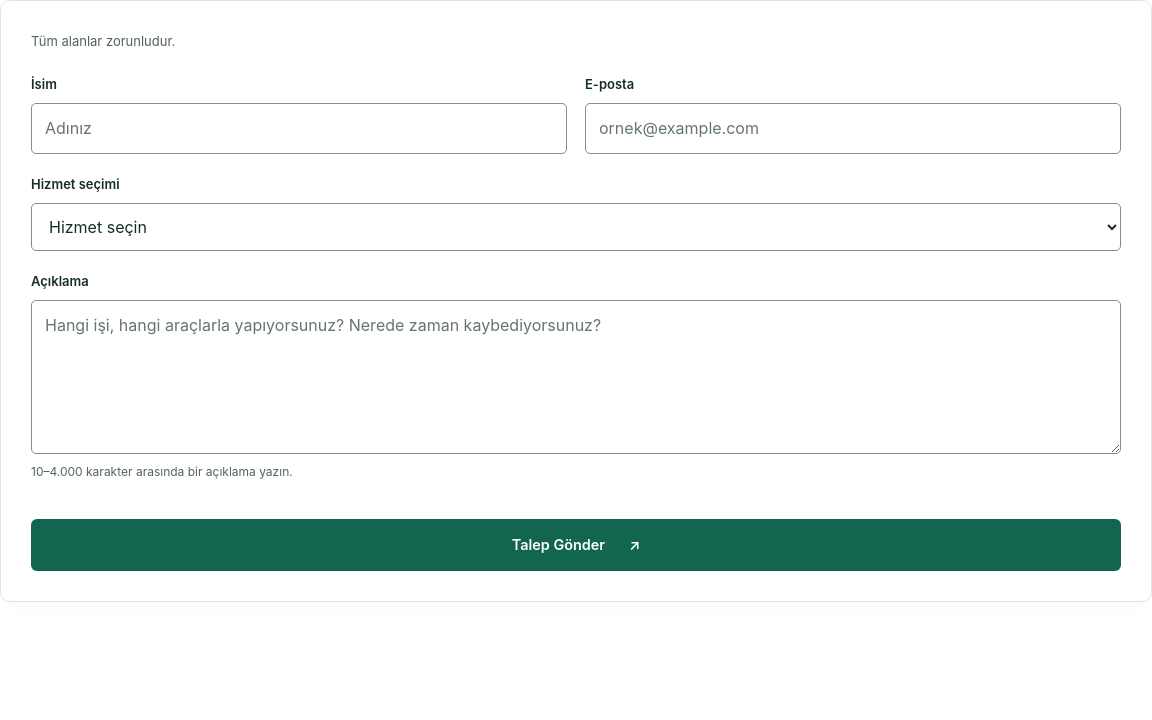
Test case: Request form API integration (mocked fetch) › does not treat HTTP 200 as success or clear values
Type "Sprint Five Test" into the field labelled "İsim".
click(299, 128); type("Sprint Five Test")  # box x1=31 y1=103 x2=567 y2=154
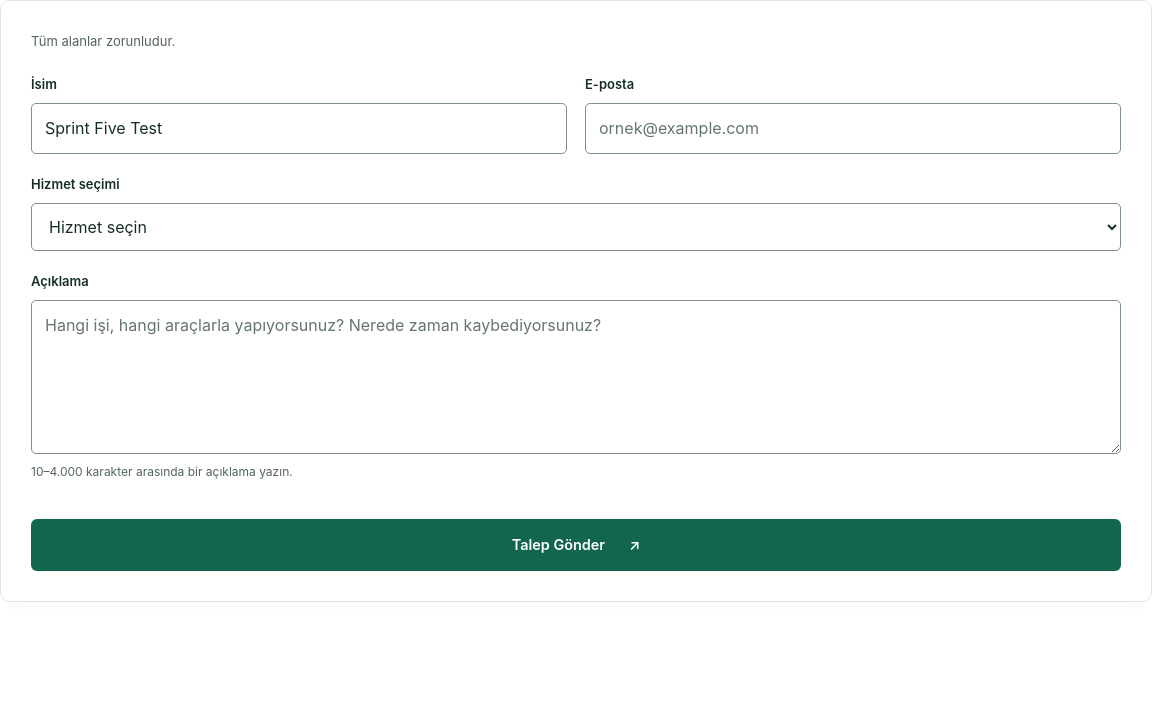
Type "sprint5@example.com" into the field labelled "E-posta".
click(853, 128); type("sprint5@example.com")  # box x1=585 y1=103 x2=1121 y2=154
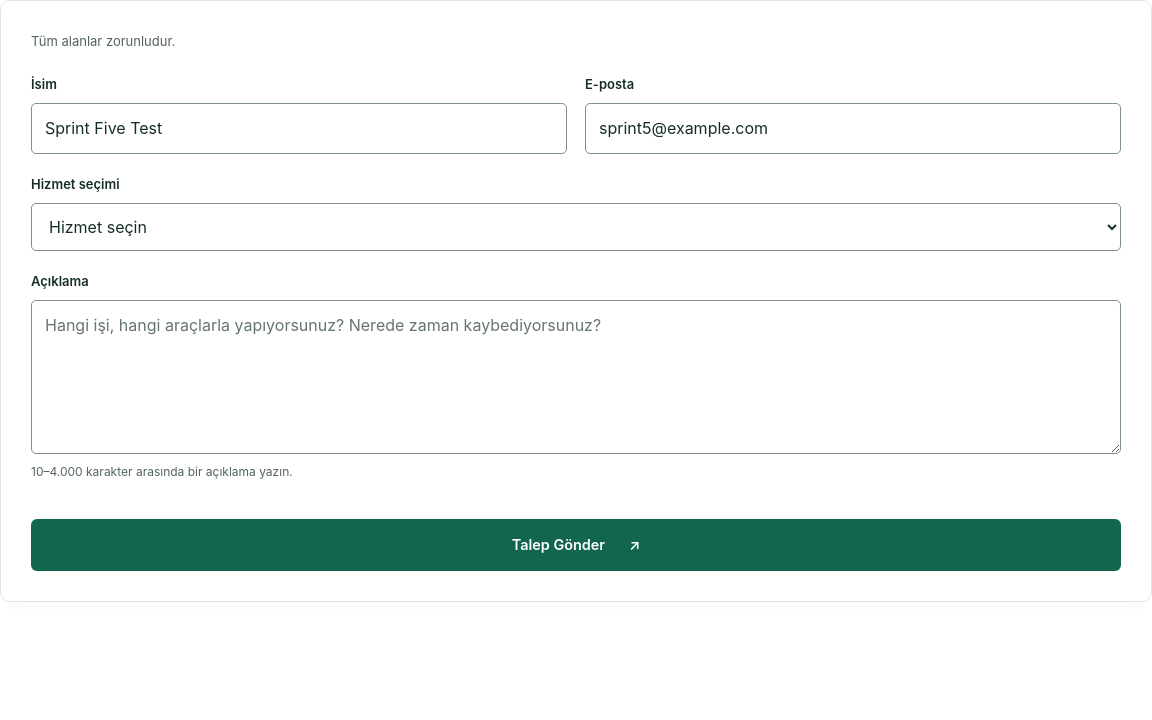
Select "İş Akışı Otomasyonu" in the dropdown labelled "Hizmet seçimi" at (576, 227), box x1=31 y1=203 x2=1121 y2=251
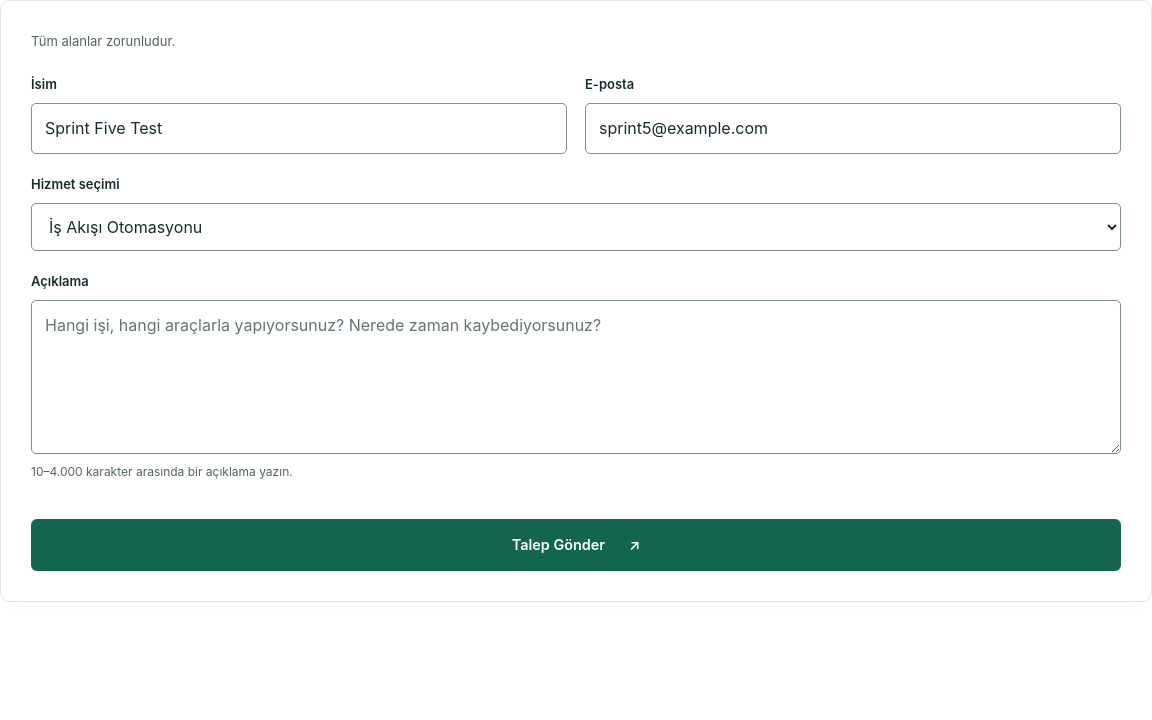
Replace the text in the text box labelled "Açıklama" with "This is a fictional request created for the FlowPilot technical evaluation." at (576, 377), box x1=31 y1=300 x2=1121 y2=454
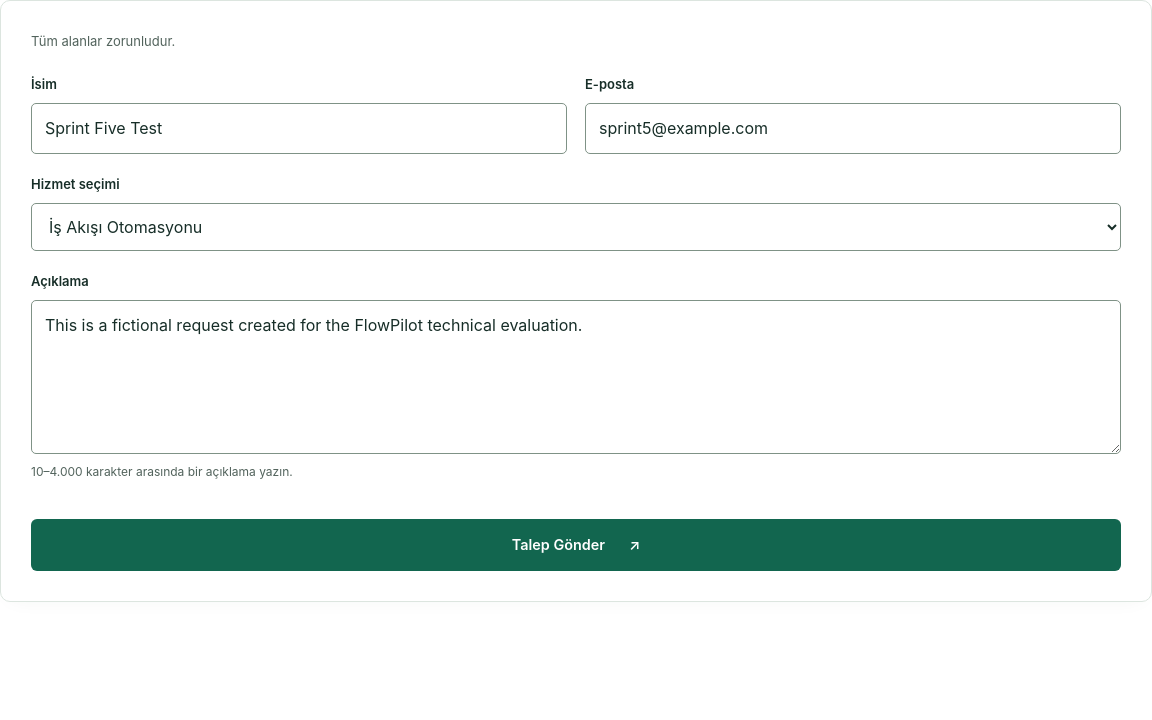
Click the button "Talep Gönder ↗".
click(576, 545)  # box x1=31 y1=519 x2=1121 y2=571
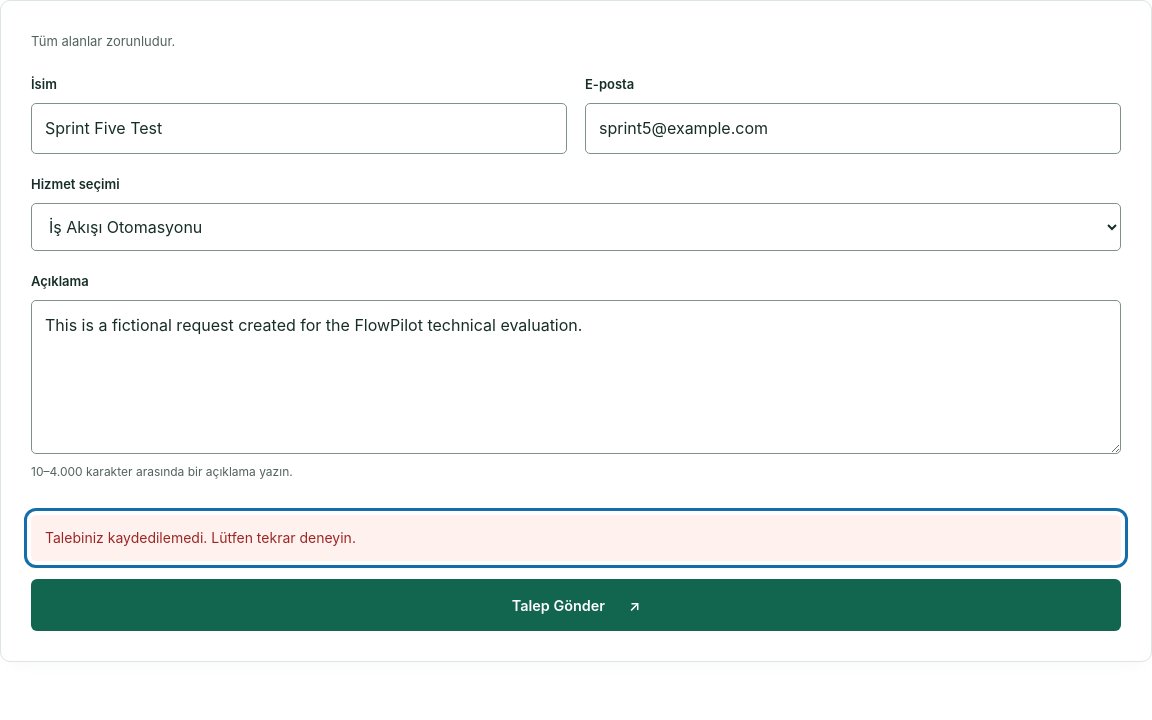
Expected: the button "Talep Gönder ↗" is enabled, x1=31 y1=579 x2=1121 y2=631
Result: the text "Talebiniz kaydedilemedi. Lütfen tekrar deneyin." is shown at x1=31 y1=515 x2=1121 y2=561
